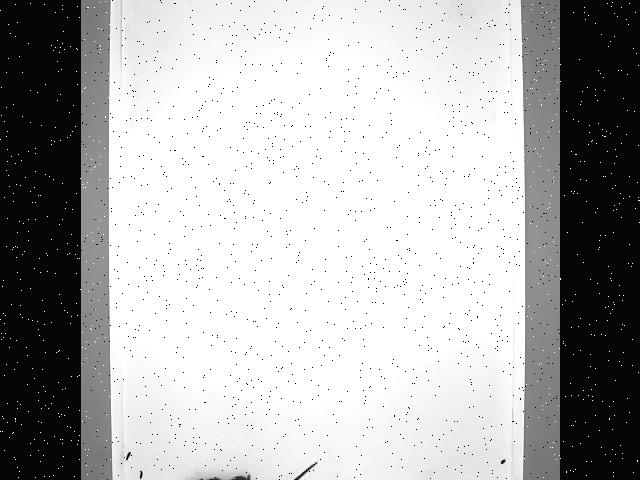Tikus: (184, 447, 320, 480)
